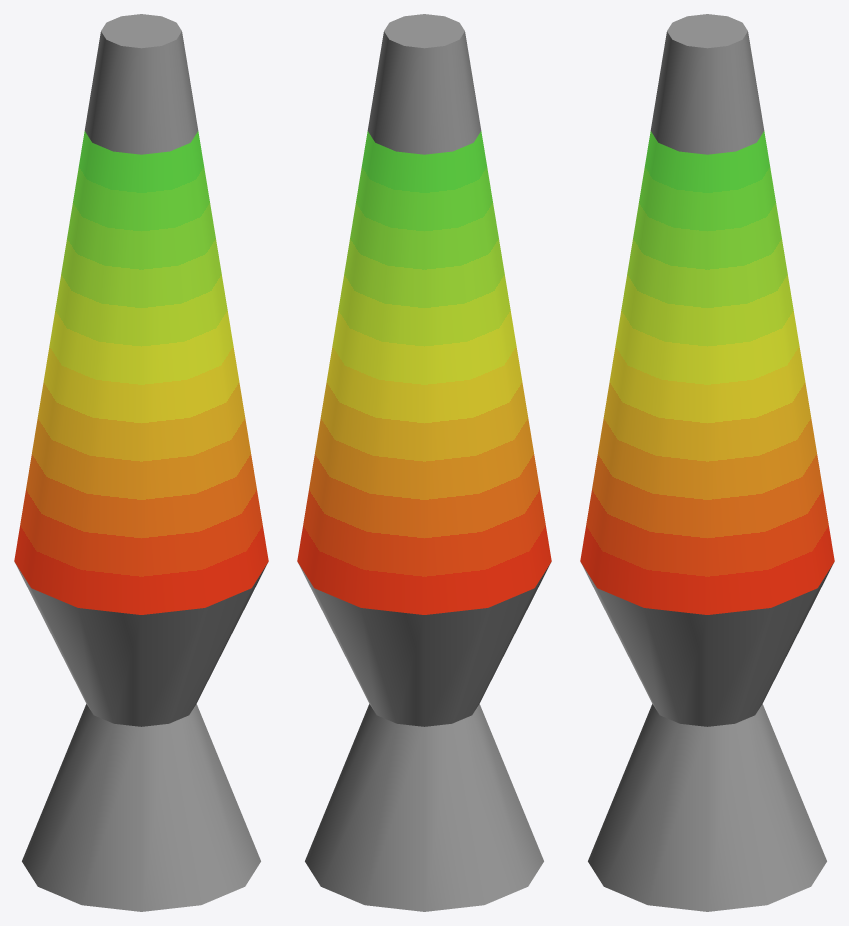
File: lava_lamp.glb
The picture shows the model from 3 angles, left to right: view 1: azimuth 30°, elevation 25°; view 2: azimuth 150°, elevation 25°; view 3: azimuth 270°, elevation 25°; orthographic projection.
Parts seen in each view (by area): view 1: Circle; view 2: Circle; view 3: Circle.
Part boxes in pixels (box(x1,y1,x2,y2)): Circle: box(14, 14, 268, 911); Circle: box(297, 14, 551, 911); Circle: box(580, 14, 834, 911).
Size of the model in its own units: 8.32 by 29.93 by 8.32.
Materials: 2 (1 with a texture image).
